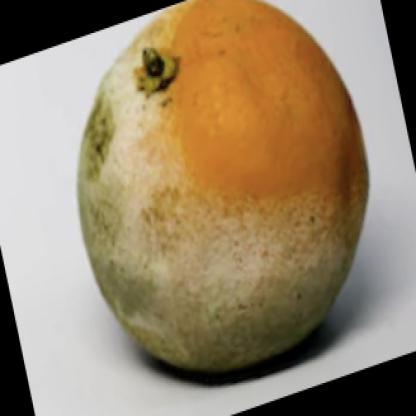rotten: (81, 1, 370, 370)
